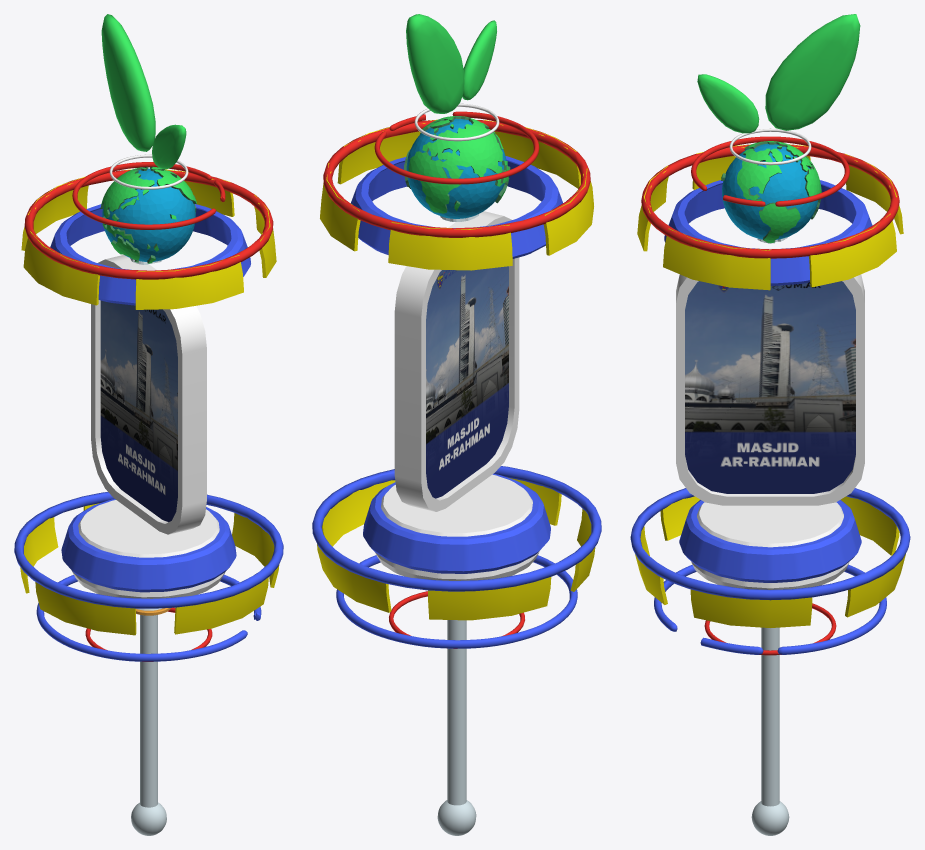
File: masjid.glb
3 views of the same model, side by side, from view 1: azimuth 30°, elevation 25°; view 2: azimuth 150°, elevation 25°; view 3: azimuth 270°, elevation 25° (orthographic). The views are drawn at different scales.
Parts seen in each view (by area): view 1: pCube3, polySurface2, pasted__pSphere8, pasted__pSphere6, pasted__pCylinder9, Sphere, pasted__pCylinder10, pCube5, pasted__polySurface27, pasted__polySurface28, pasted__pCone1, pasted__polySurface30 (+3 smaller); view 2: pCube3, polySurface2, pasted__pSphere8, pasted__pSphere6, pasted__pCylinder9, Sphere, pasted__pCylinder10, pasted__polySurface27, pCube5, pasted__polySurface28, pasted__polySurface30, pasted__pCone1 (+4 smaller); view 3: pCube3, pasted__pSphere8, pCube5, pasted__pSphere6, Sphere, pasted__pCylinder9, pasted__pCylinder10, polySurface2, pasted__polySurface27, pasted__polySurface28, pasted__polySurface30, pasted__pCone1 (+4 smaller).
Part boxes in pixels (bbox=[...]): pCube3: bbox=[100, 300, 177, 522]; polySurface2: bbox=[91, 255, 206, 534]; pasted__pSphere8: bbox=[21, 169, 276, 309]; pasted__pSphere6: bbox=[20, 503, 279, 635]; pasted__pCylinder9: bbox=[61, 499, 236, 592]; Sphere: bbox=[100, 166, 196, 264]; pasted__pCylinder10: bbox=[71, 500, 225, 598]; pCube5: bbox=[101, 14, 186, 169]; pasted__polySurface27: bbox=[14, 492, 283, 608]; pasted__polySurface28: bbox=[24, 170, 273, 279]; pasted__pCone1: bbox=[131, 608, 166, 835]; pasted__polySurface30: bbox=[50, 204, 250, 305]; pCube3: bbox=[426, 266, 508, 498]; polySurface2: bbox=[394, 211, 519, 511]; pasted__pSphere8: bbox=[320, 119, 593, 270]; pasted__pSphere6: bbox=[317, 477, 595, 620]; pasted__pCylinder9: bbox=[363, 473, 550, 573]; Sphere: bbox=[404, 116, 510, 221]; pasted__pCylinder10: bbox=[375, 474, 539, 580]; pasted__polySurface27: bbox=[312, 466, 601, 591]; pCube5: bbox=[406, 14, 496, 113]; pasted__polySurface28: bbox=[323, 120, 590, 237]; pasted__polySurface30: bbox=[350, 156, 562, 258]; pasted__pCone1: bbox=[437, 620, 476, 835]; pCube3: bbox=[685, 281, 855, 493]; pasted__pSphere8: bbox=[637, 144, 903, 290]; pCube5: bbox=[697, 14, 860, 133]; pasted__pSphere6: bbox=[635, 496, 905, 627]; Sphere: bbox=[721, 141, 821, 243]; pasted__pCylinder9: bbox=[679, 500, 861, 582]; pasted__pCylinder10: bbox=[691, 502, 849, 589]; polySurface2: bbox=[676, 248, 864, 505]; pasted__polySurface27: bbox=[630, 488, 910, 600]; pasted__polySurface28: bbox=[641, 144, 899, 258]; pasted__polySurface30: bbox=[664, 180, 872, 285]; pasted__pCone1: bbox=[751, 627, 789, 835].
Bounding box in the file's own units: 0.0149 × 0.0481 × 0.0149.
10 materials, 1 textured.
